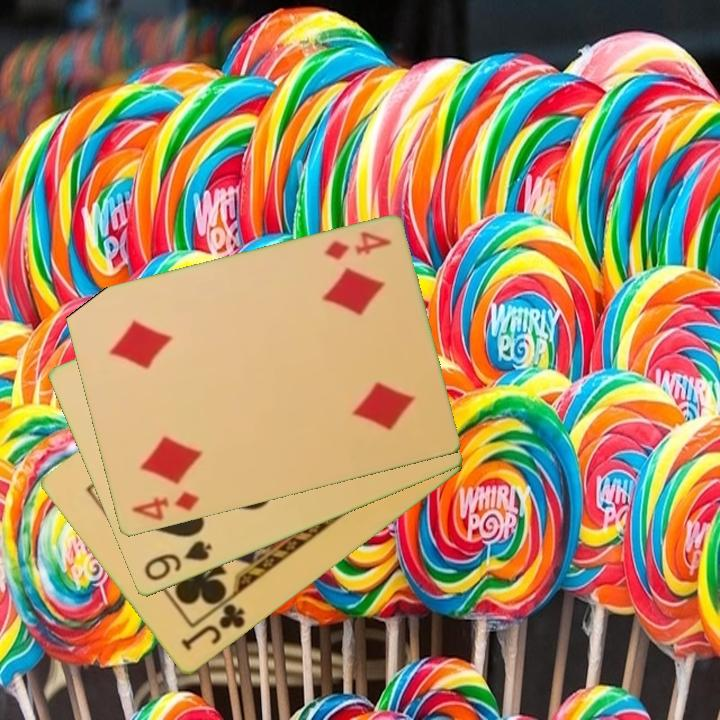4d: (128, 488, 202, 525), (321, 228, 394, 264)
9s: (140, 537, 214, 585)
Jc: (177, 600, 249, 654)
